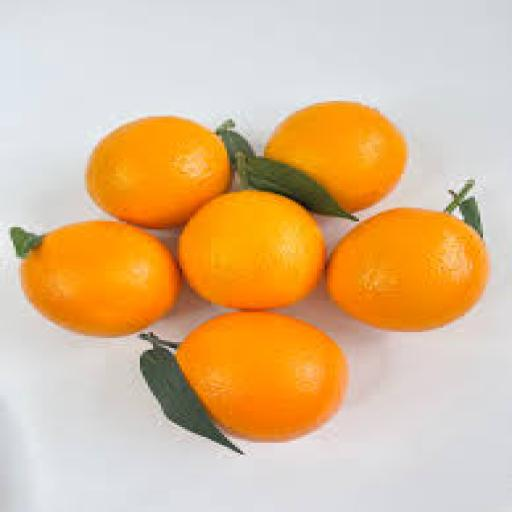orange: (177, 313, 348, 440), (328, 208, 488, 330), (22, 222, 179, 336), (180, 192, 324, 310), (264, 101, 406, 211), (88, 117, 229, 227)
